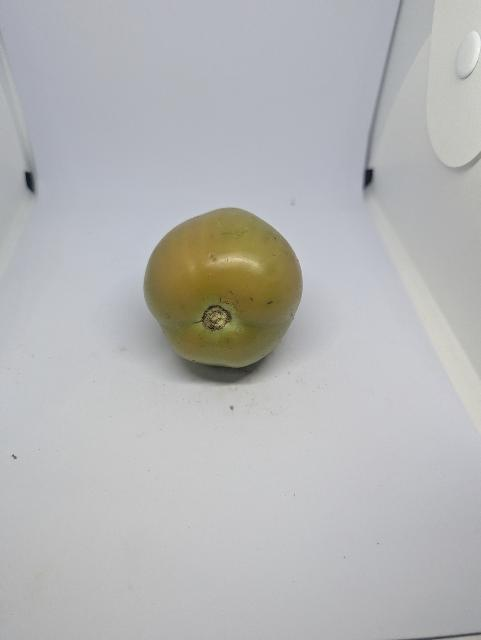breaker: (142, 201, 307, 387)
